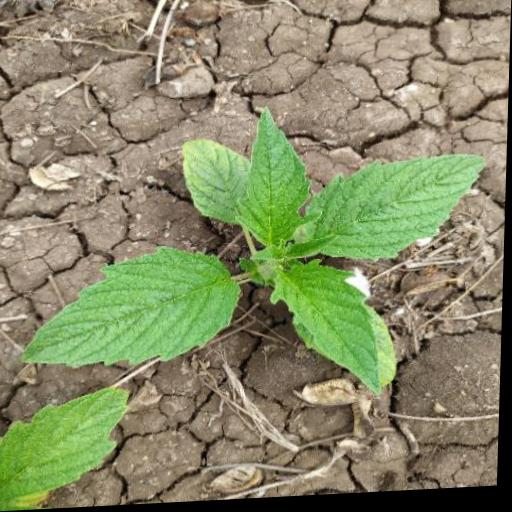crop: (20, 116, 482, 419)
